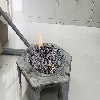fire: (39, 33, 43, 49), (51, 63, 56, 72)
